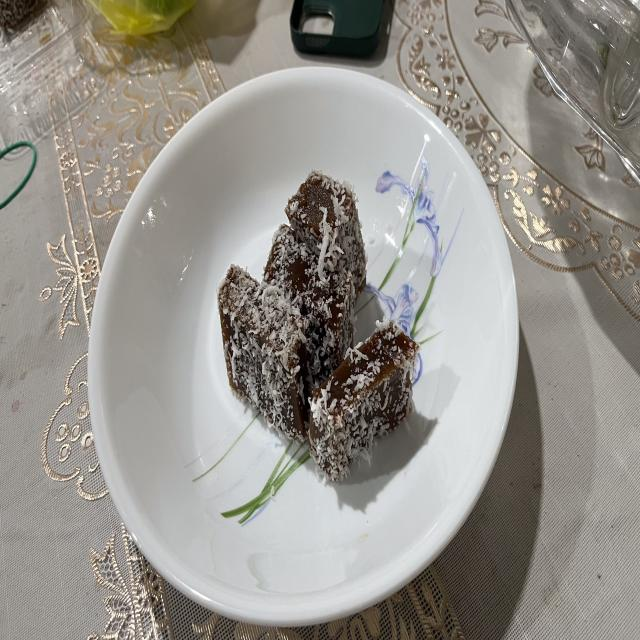kaswi: (309, 318, 419, 482), (218, 264, 309, 440), (264, 224, 355, 396), (285, 171, 366, 298)
